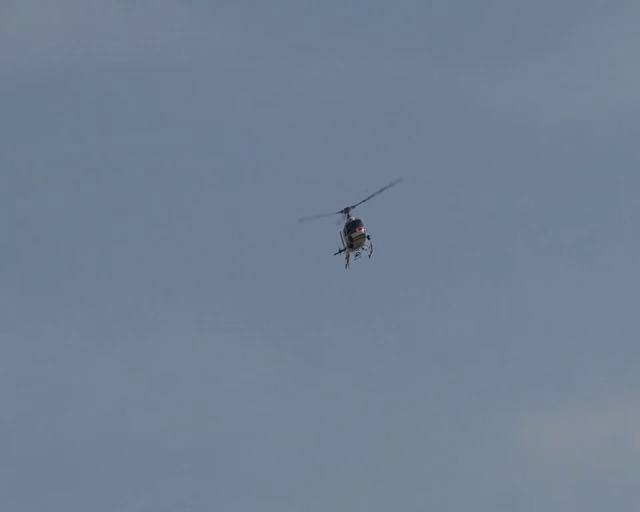HELICOPTER: (297, 177, 404, 268)
